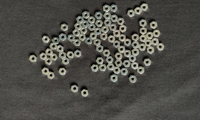nut: (157, 43, 165, 51), (152, 38, 160, 46), (150, 21, 158, 29), (146, 32, 154, 40), (132, 34, 140, 42), (129, 55, 137, 63), (124, 39, 132, 47), (124, 50, 132, 58), (121, 68, 129, 76), (108, 35, 116, 43), (71, 85, 79, 93), (85, 37, 93, 45), (88, 16, 96, 24), (73, 29, 81, 37), (74, 50, 82, 58), (59, 33, 67, 41), (59, 68, 67, 76), (47, 72, 55, 80), (42, 68, 50, 76), (29, 55, 37, 63), (153, 30, 161, 37), (147, 47, 155, 54), (145, 40, 153, 47), (144, 59, 152, 66), (138, 67, 145, 75), (140, 20, 148, 27), (141, 4, 149, 11), (135, 7, 142, 15), (140, 27, 147, 35), (140, 35, 148, 42), (139, 44, 147, 51), (129, 76, 137, 83), (132, 42, 140, 49), (132, 49, 140, 56), (132, 62, 139, 70), (123, 61, 131, 68), (103, 5, 111, 12), (117, 18, 125, 25), (120, 25, 127, 33), (119, 34, 126, 42), (118, 46, 126, 53), (115, 53, 123, 60), (115, 60, 123, 67), (113, 67, 121, 74), (111, 75, 118, 83), (113, 30, 121, 37), (113, 41, 121, 48), (110, 24, 117, 32), (104, 12, 112, 19), (104, 19, 112, 26), (103, 50, 111, 57), (106, 57, 114, 64), (107, 64, 115, 71), (95, 12, 103, 19), (96, 20, 104, 27), (100, 64, 107, 72), (91, 65, 99, 72), (97, 45, 104, 53), (90, 33, 98, 40), (83, 11, 90, 19), (82, 20, 89, 28), (77, 16, 84, 24), (80, 27, 88, 34), (67, 52, 75, 59), (61, 24, 69, 31), (52, 38, 60, 45), (62, 58, 70, 65), (57, 45, 64, 53), (42, 36, 50, 43), (45, 58, 53, 65), (40, 53, 47, 61), (128, 10, 135, 17), (111, 5, 118, 12), (111, 15, 118, 22), (102, 26, 109, 33), (101, 33, 108, 40), (95, 28, 102, 35), (97, 58, 104, 65), (82, 90, 89, 97), (94, 39, 101, 46), (89, 24, 96, 31), (79, 34, 86, 41), (75, 23, 82, 30), (74, 39, 81, 46), (68, 35, 75, 42), (59, 52, 66, 59), (50, 43, 57, 50), (51, 54, 58, 61), (46, 49, 53, 56)
